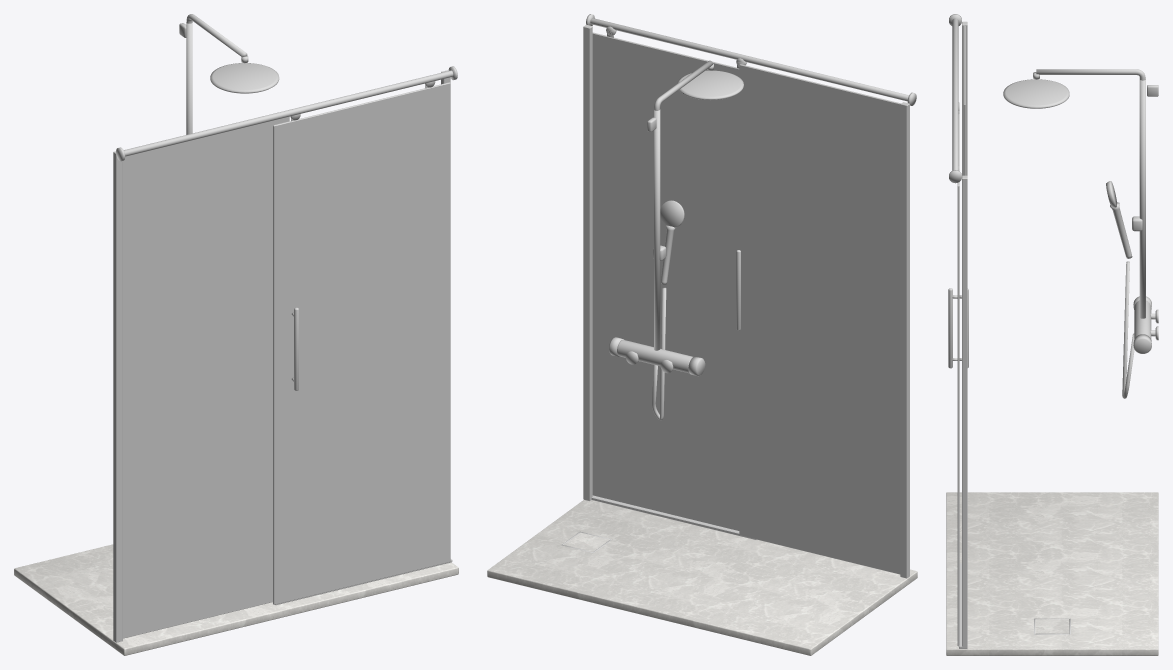
The model's file is ducha_corredera_80x140.glb.
3 views of the same model, side by side, from view 1: azimuth 30°, elevation 25°; view 2: azimuth 150°, elevation 25°; view 3: azimuth 270°, elevation 25° (orthographic). The views are drawn at different scales.
Visible parts, largest first — view 1: ducha_corredera_80x140; view 2: ducha_corredera_80x140; view 3: ducha_corredera_80x140.
Boxes of the visible parts, x1,y1,x2,y2 form: ducha_corredera_80x140: (14,14,458,655); ducha_corredera_80x140: (487,14,917,655); ducha_corredera_80x140: (946,14,1158,655).
Bounding box in the file's own units: 1.4 × 2.11 × 0.8005.
Materials: 3 (1 with a texture image).
